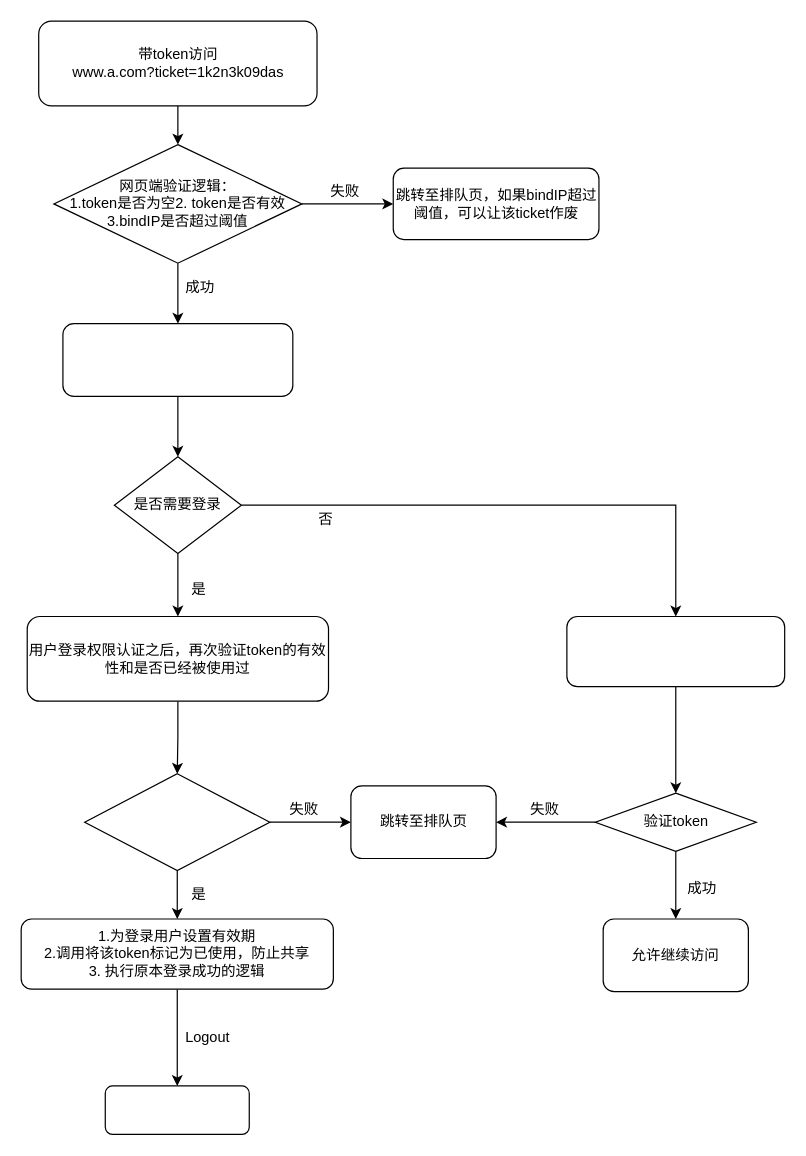
Some shapes in this 806 by 1156 pixel diagram are drawn without their labels. Here are the shapes that lost their labels. From the top down, the centre of each, then its label:
the point at 177,359: 1. 保存token与其对应的数据保存到cookie 2.上报token与当前ip的关联情况
the point at 675,651: 需要在切换页面时触发token验证
the point at 176,822: token验证是否成功
the point at 176,1109: 通知注销ticket
